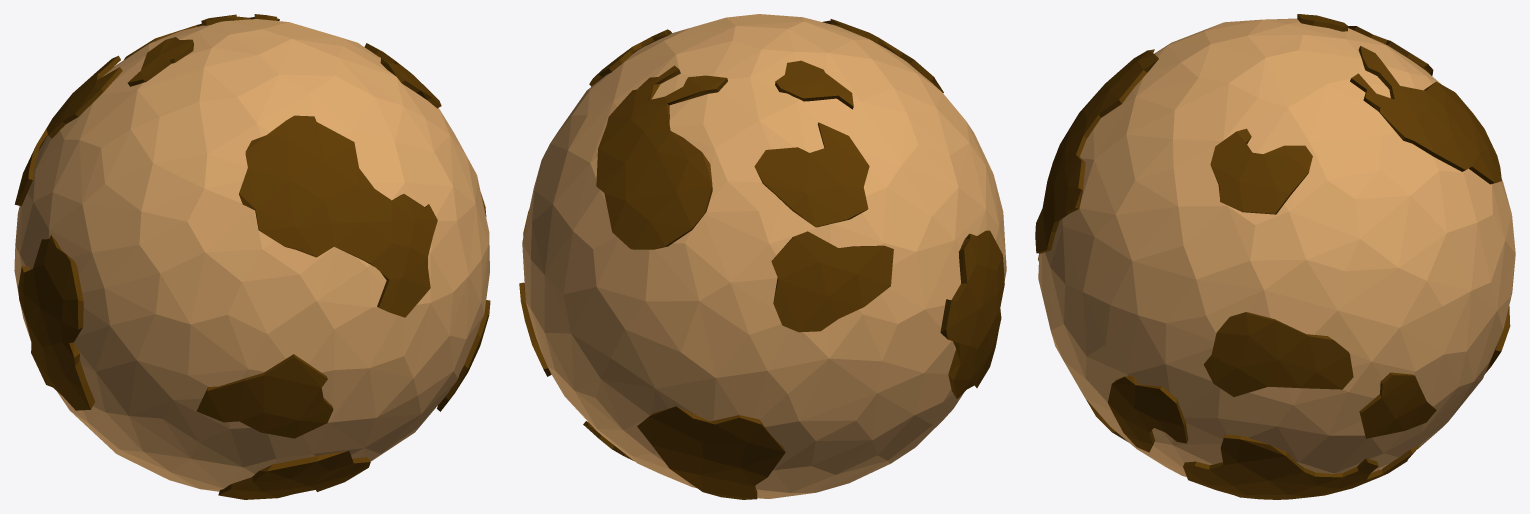
Rendered from planet2.glb.
3 renders of one model, left to right at view 1: azimuth 30°, elevation 25°; view 2: azimuth 150°, elevation 25°; view 3: azimuth 270°, elevation 25°, orthographic.
Visible parts, largest first — view 1: Icosphere, Topography; view 2: Icosphere, Topography; view 3: Icosphere, Topography.
Boxes of the visible parts, bbox=[...] form: Icosphere: bbox=[14, 19, 489, 491]; Topography: bbox=[14, 14, 490, 499]; Icosphere: bbox=[522, 14, 1006, 498]; Topography: bbox=[519, 19, 1004, 499]; Icosphere: bbox=[1038, 18, 1515, 477]; Topography: bbox=[1035, 14, 1510, 499].
Bounding box in the file's own units: 1.99 × 1.94 × 1.95.
